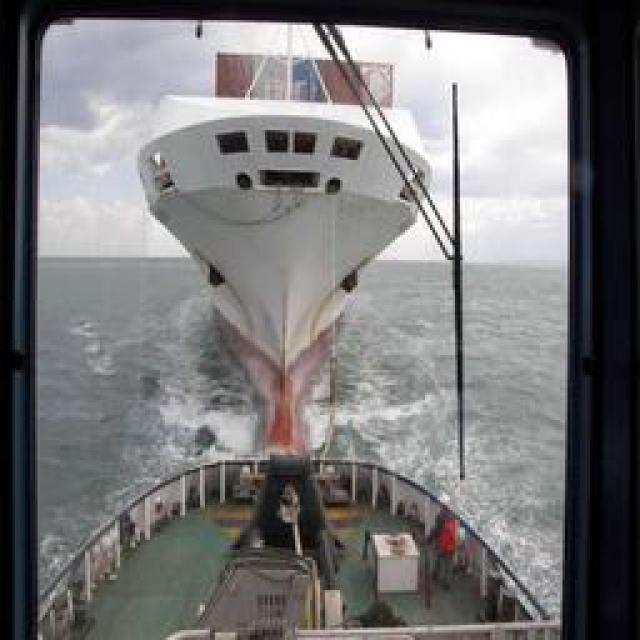Ship: (112, 19, 496, 457)
